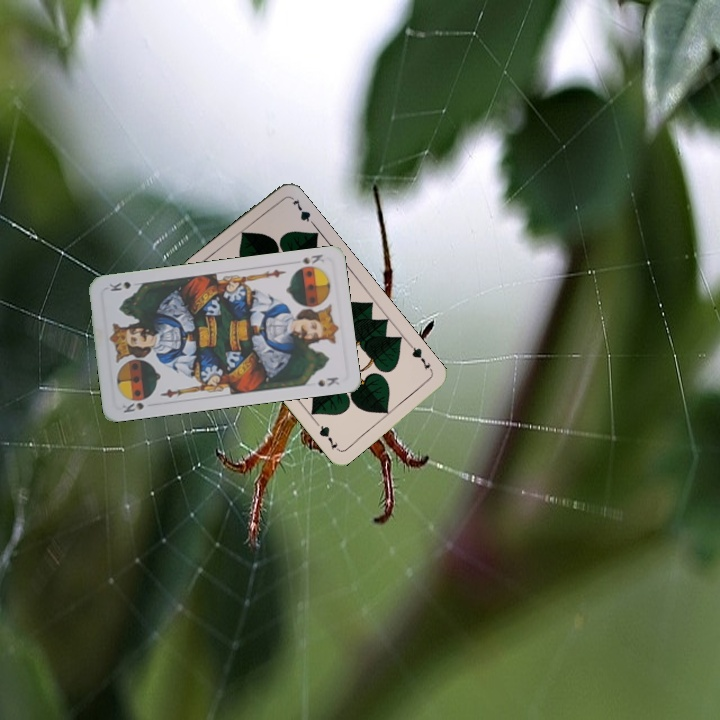G7: (406, 341, 435, 375)
SK: (297, 250, 327, 266), (118, 398, 146, 415)
